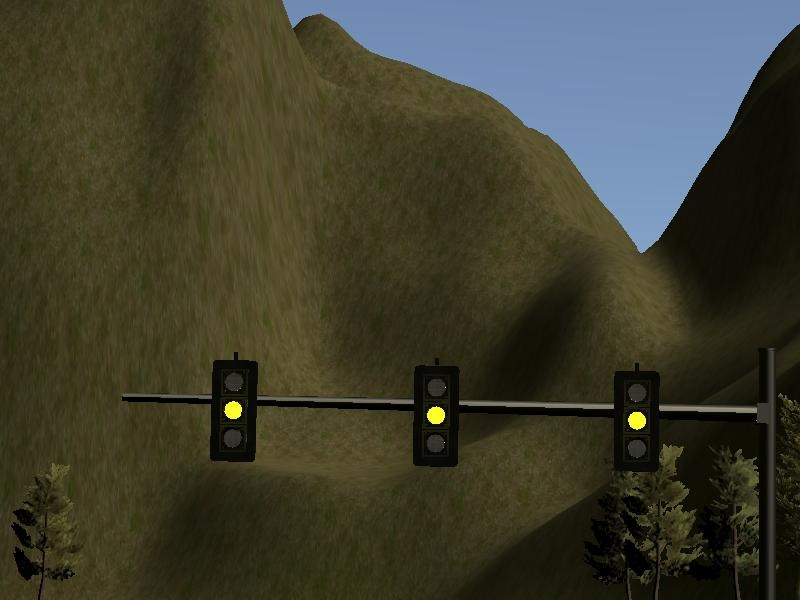yellow: (210, 360, 258, 463), (613, 370, 661, 473), (412, 365, 460, 468)
